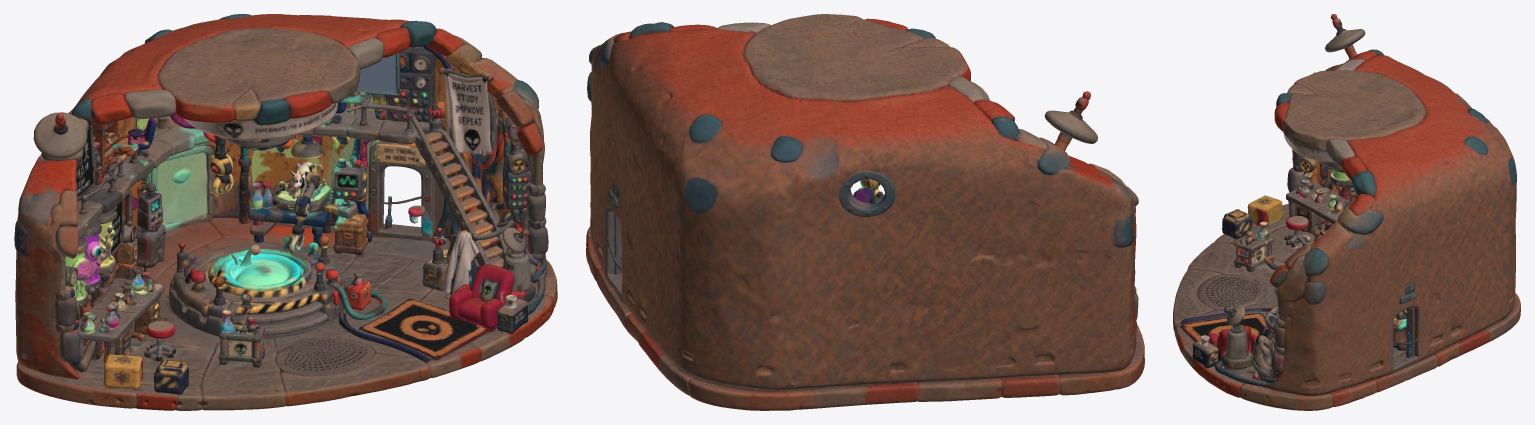
The model's file is kfb-meshy-alien-workshop.screen-a.v1.glb.
3 views of the same model, side by side, from view 1: azimuth 30°, elevation 25°; view 2: azimuth 150°, elevation 25°; view 3: azimuth 270°, elevation 25° (orthographic). The views are drawn at different scales.
Parts seen in each view (by area): view 1: alien_workshop, kfb_screen_slot; view 2: alien_workshop; view 3: alien_workshop.
Boxes of the visible parts, x1=… form: alien_workshop: x1=14, y1=14, x2=557, y2=410; kfb_screen_slot: x1=357, y1=54, x2=395, y2=92; alien_workshop: x1=586, y1=14, x2=1144, y2=410; alien_workshop: x1=1173, y1=14, x2=1520, y2=410.
Size of the model in its own units: 1.9 by 0.9292 by 1.38.
4 materials, 1 textured.
